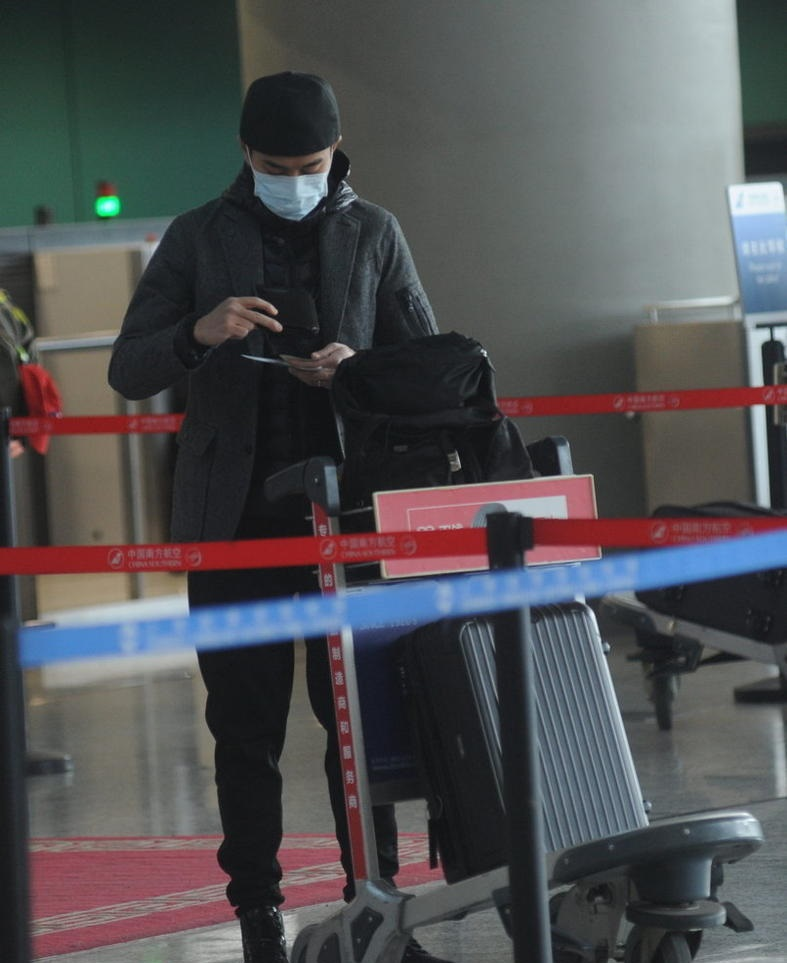face_mask: (251, 129, 333, 226)
